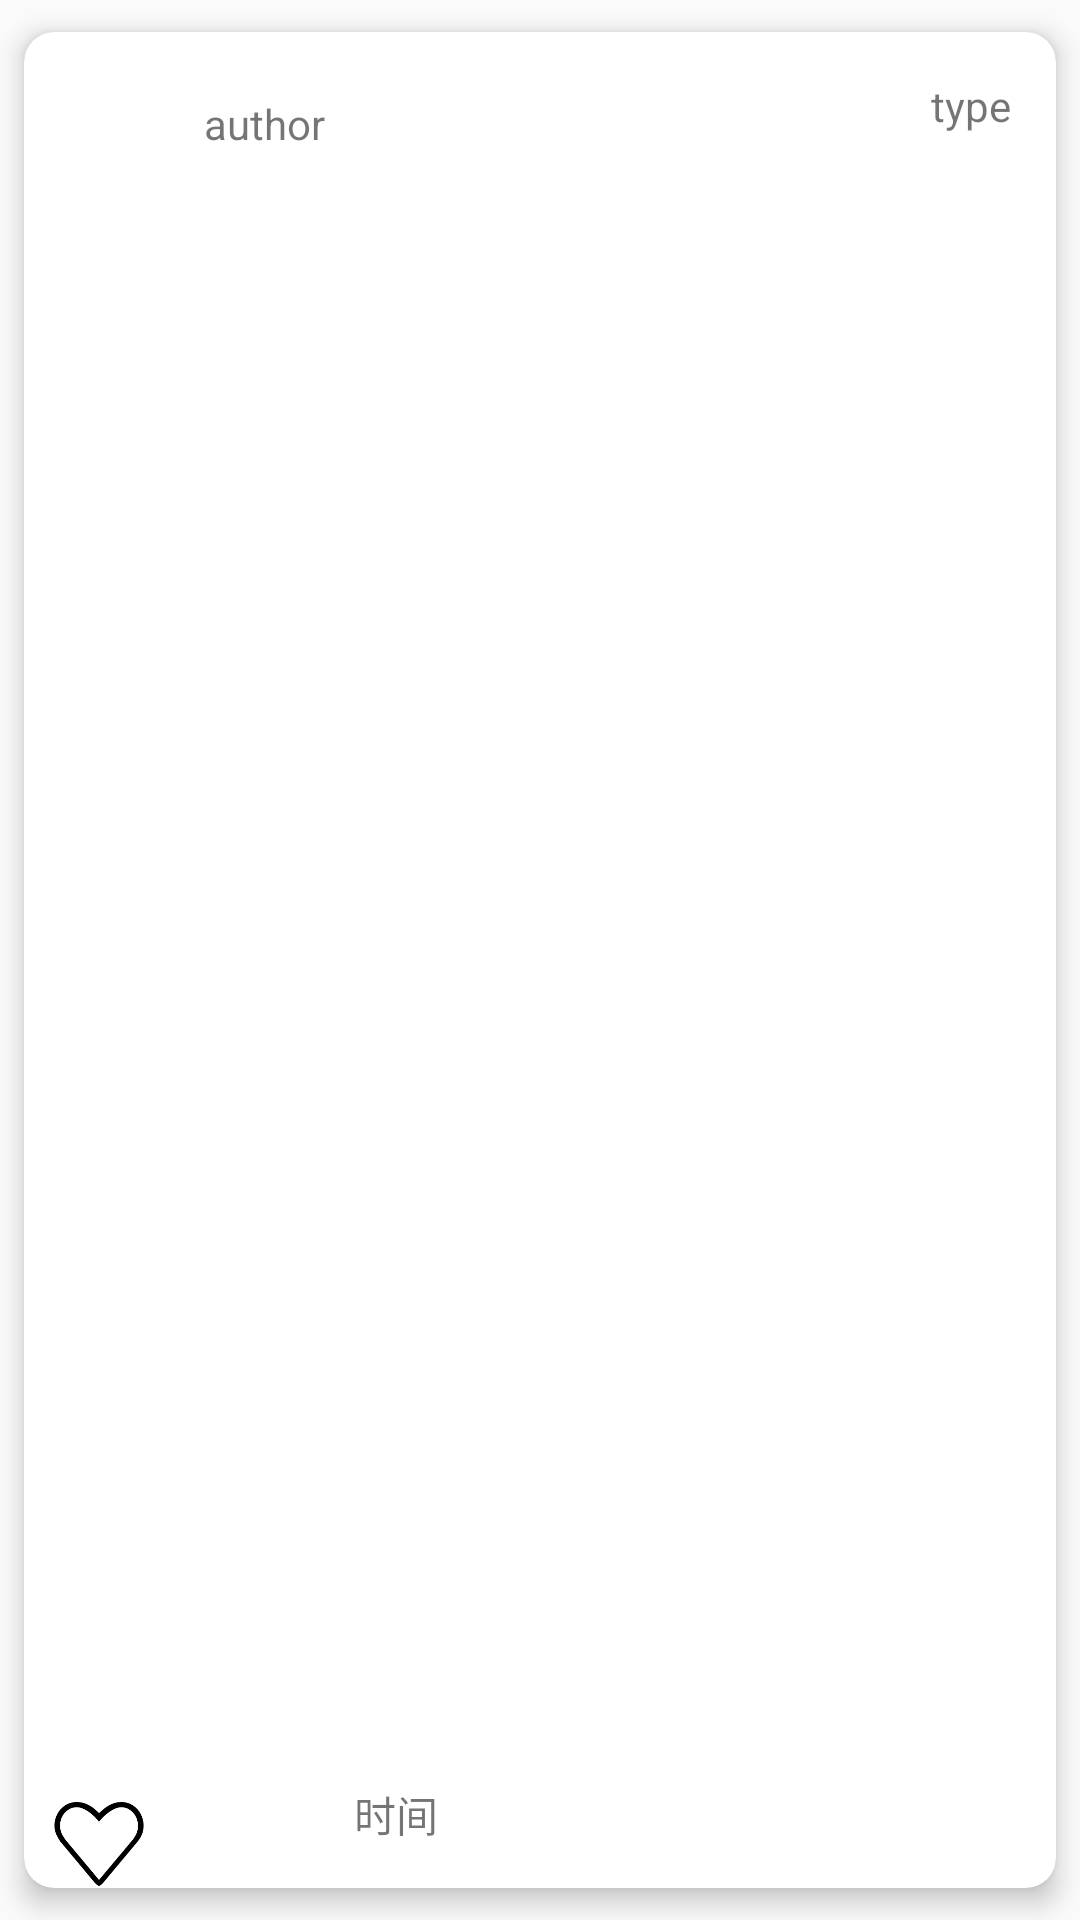

Named icons in this screenshot (1080w x 1920h) and their bounding boxes, (x1, y1, x2, y2):
xin: (54, 1802, 144, 1886)
